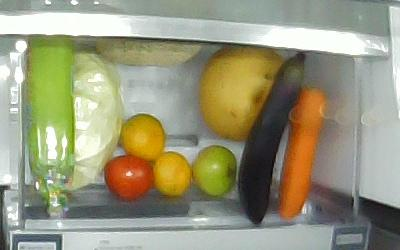cabbage: (70, 43, 122, 194)
carrot: (278, 86, 325, 218)
eggplant: (237, 52, 305, 224)
melon: (96, 39, 203, 67)
pear: (197, 45, 285, 139)
prune: (103, 154, 152, 199)
tangerine: (120, 114, 165, 162), (153, 152, 191, 195)
tomato: (192, 145, 237, 195)
zucchini: (26, 36, 74, 231)
